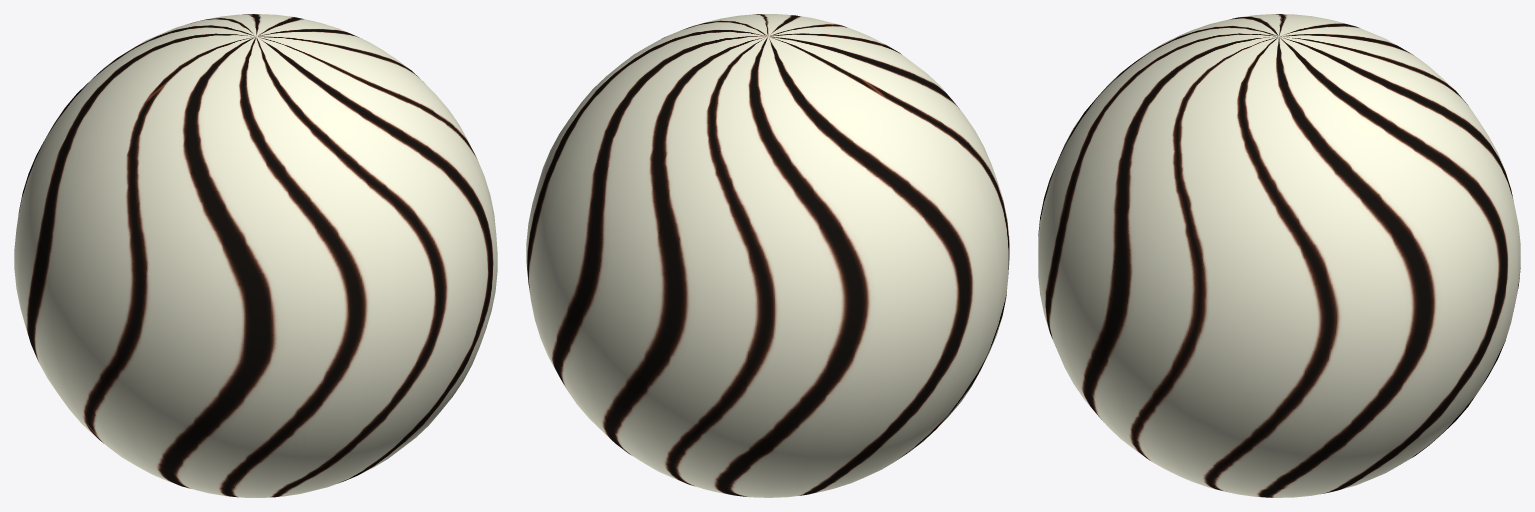
The model's file is Clambroth_Marble.fbx.
3 views of the same model, side by side, from view 1: azimuth 30°, elevation 25°; view 2: azimuth 150°, elevation 25°; view 3: azimuth 270°, elevation 25° (orthographic).
Visible parts, largest first — view 1: Clambroth; view 2: Clambroth; view 3: Clambroth.
Part boxes in pixels (x1=…): Clambroth: x1=14, y1=14, x2=497, y2=497; Clambroth: x1=526, y1=14, x2=1009, y2=497; Clambroth: x1=1038, y1=14, x2=1520, y2=497.
Size of the model in its own units: 200 by 200 by 199.
Materials: 1 (1 with a texture image).
